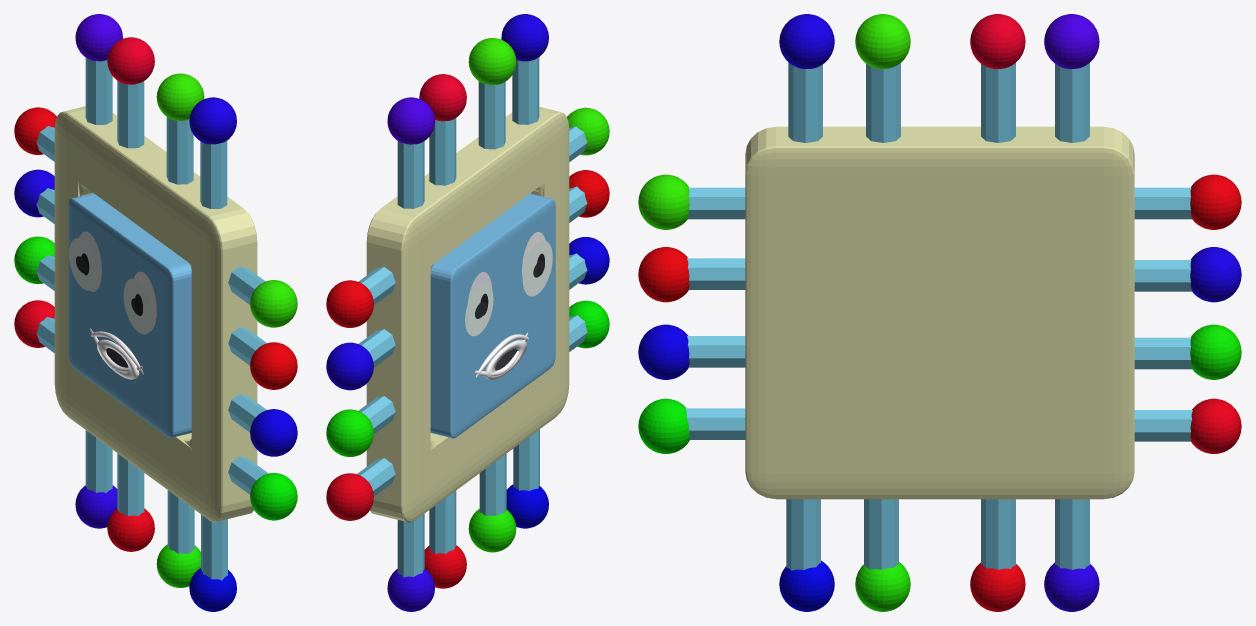
The model's file is mascotte9.fbx.
The picture shows the model from 3 angles, left to right: view 1: azimuth 30°, elevation 25°; view 2: azimuth 150°, elevation 25°; view 3: azimuth 270°, elevation 25°; orthographic projection. The views are drawn at different scales.
Parts seen in each view (by area): view 1: outer Cube, oeuil gauche inter, oeuil droit inter, levres anx, oeuil droite happy; view 2: outer Cube, oeuil gauche inter, oeuil droit inter, levres anx; view 3: outer Cube.
Boxes of the visible parts, <box> form: outer Cube: <box>14,14,297,611</box>; oeuil gauche inter: <box>123,278,153,334</box>; oeuil droit inter: <box>69,238,97,290</box>; levres anx: <box>97,339,139,379</box>; oeuil droite happy: <box>79,231,101,291</box>; outer Cube: <box>326,14,609,611</box>; oeuil gauche inter: <box>522,240,552,296</box>; oeuil droit inter: <box>465,283,493,336</box>; levres anx: <box>485,340,526,379</box>; outer Cube: <box>638,14,1241,611</box>.
Bounding box in the file's own units: 45.25 × 336 × 310.
